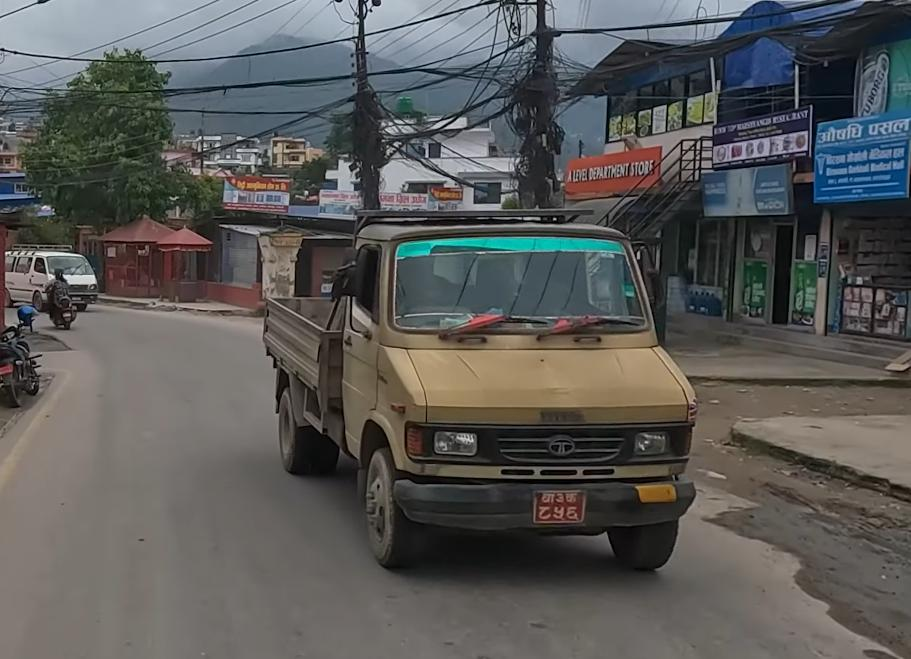bike: (0, 313, 46, 417)
mini_truck: (252, 190, 709, 572)
scooter: (45, 257, 87, 334)
van: (2, 245, 104, 306)
